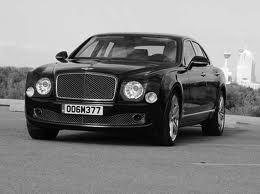car: (23, 32, 229, 146)
